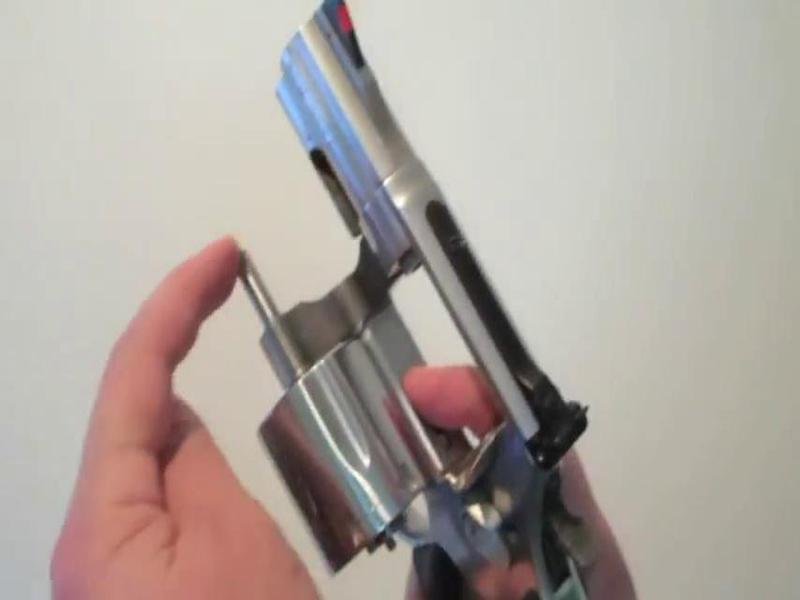Revolver: (214, 1, 583, 593)
